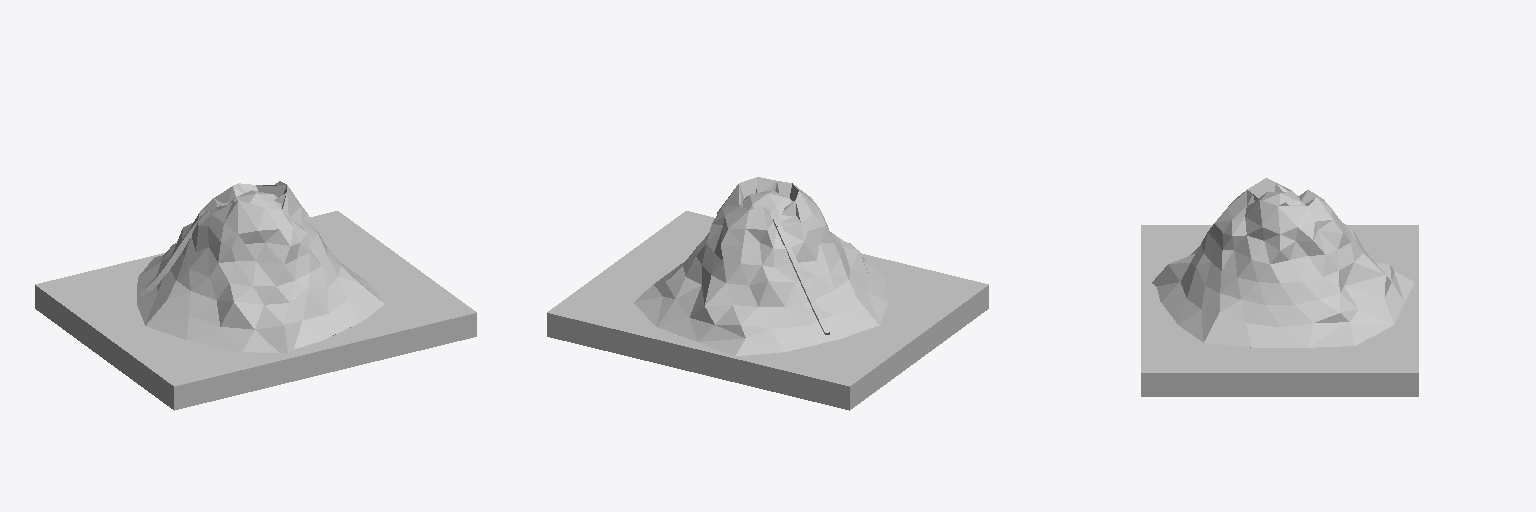
Rendered from volcanoCol.obj.
The picture shows the model from 3 angles: view 1: azimuth 30°, elevation 25°; view 2: azimuth 150°, elevation 25°; view 3: azimuth 270°, elevation 25°; orthographic projection.
Parts seen in each view (by area): view 1: Cube_Cube.001, Volcano_Icosphere.002, Cube.001_Cube.003; view 2: Cube_Cube.001, Volcano_Icosphere.002, Icosphere_Icosphere.004, Cube.001_Cube.003; view 3: Volcano_Icosphere.002, Cube_Cube.001.
Boxes of the visible parts, x1=… form: Cube_Cube.001: x1=35, y1=211, x2=476, y2=410; Volcano_Icosphere.002: x1=137, y1=181, x2=384, y2=353; Cube.001_Cube.003: x1=140, y1=202, x2=229, y2=296; Cube_Cube.001: x1=547, y1=211, x2=988, y2=410; Volcano_Icosphere.002: x1=634, y1=177, x2=887, y2=355; Icosphere_Icosphere.004: x1=743, y1=190, x2=792, y2=222; Cube.001_Cube.003: x1=773, y1=217, x2=829, y2=334; Volcano_Icosphere.002: x1=1152, y1=178, x2=1413, y2=347; Cube_Cube.001: x1=1141, y1=225, x2=1418, y2=396.
Size of the model in its own units: 263 by 111 by 210.